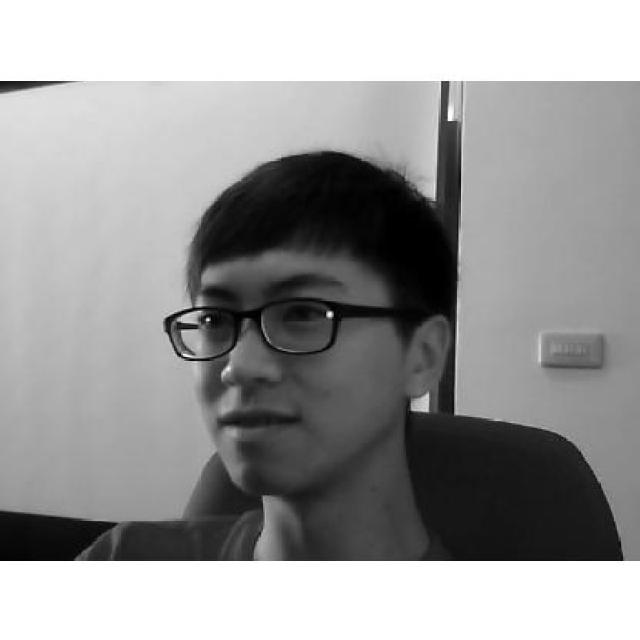attentif: (162, 151, 450, 492)
